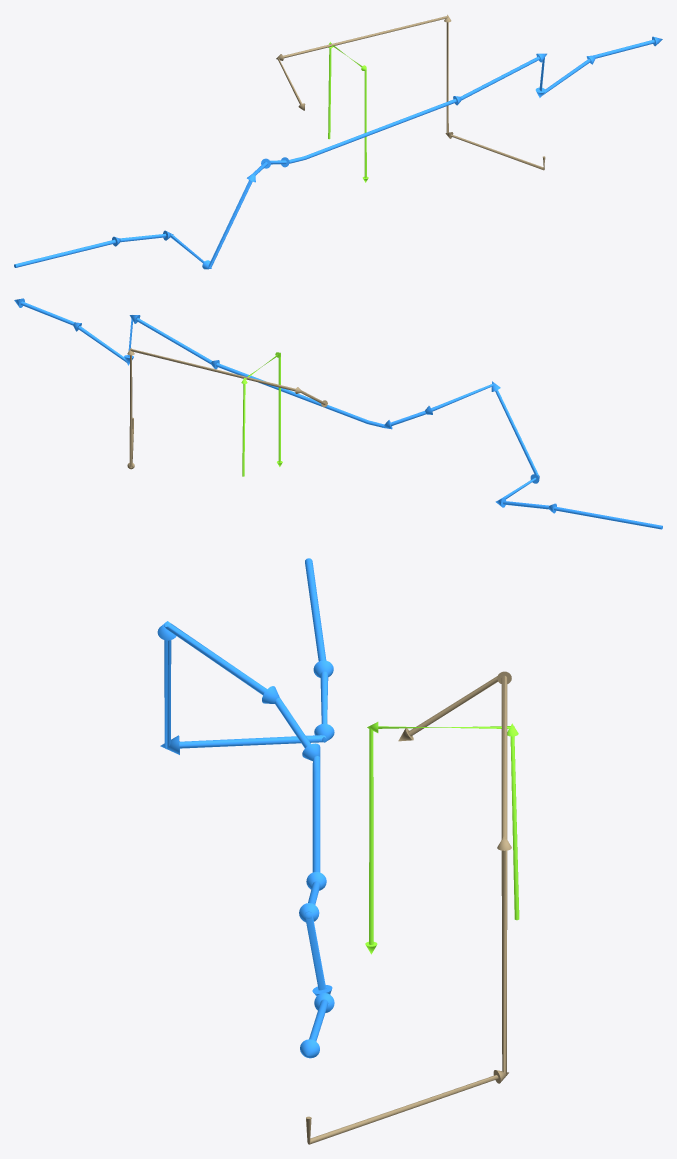
The model's file is effluent_treatment_plant_flow.glb.
3 views of the same model, one above another, from view 1: azimuth 30°, elevation 25°; view 2: azimuth 150°, elevation 25°; view 3: azimuth 270°, elevation 25° (orthographic). The views are drawn at different scales.
Visible parts, largest first — view 1: effluent, ras, air; view 2: effluent, ras, air; view 3: effluent, ras, air.
Boxes of the visible parts, bbox=[...] form: effluent: bbox=[14, 36, 662, 269]; ras: bbox=[276, 14, 545, 170]; air: bbox=[328, 42, 368, 182]; effluent: bbox=[14, 298, 662, 529]; ras: bbox=[127, 348, 327, 469]; air: bbox=[241, 352, 282, 476]; effluent: bbox=[157, 558, 334, 1058]; ras: bbox=[306, 671, 511, 1144]; air: bbox=[365, 722, 519, 954].
Size of the model in its own units: 9.55 by 1.86 by 2.31.
